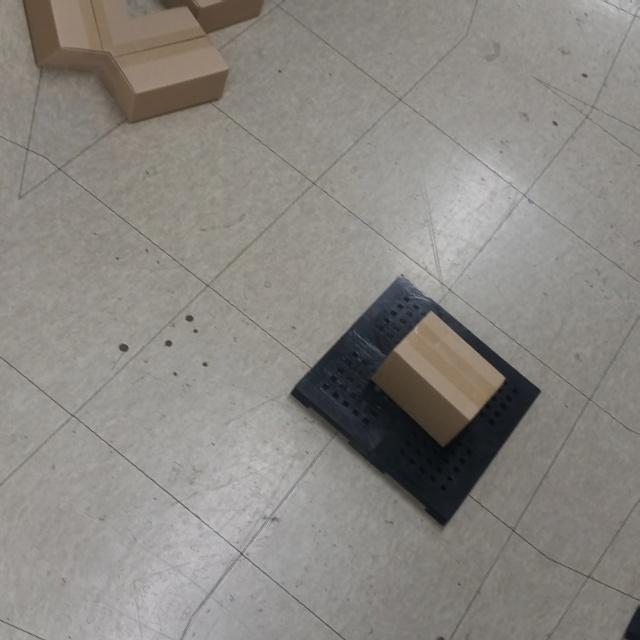box: (361, 301, 513, 451), (93, 0, 234, 122)
pallet: (285, 272, 548, 528)
